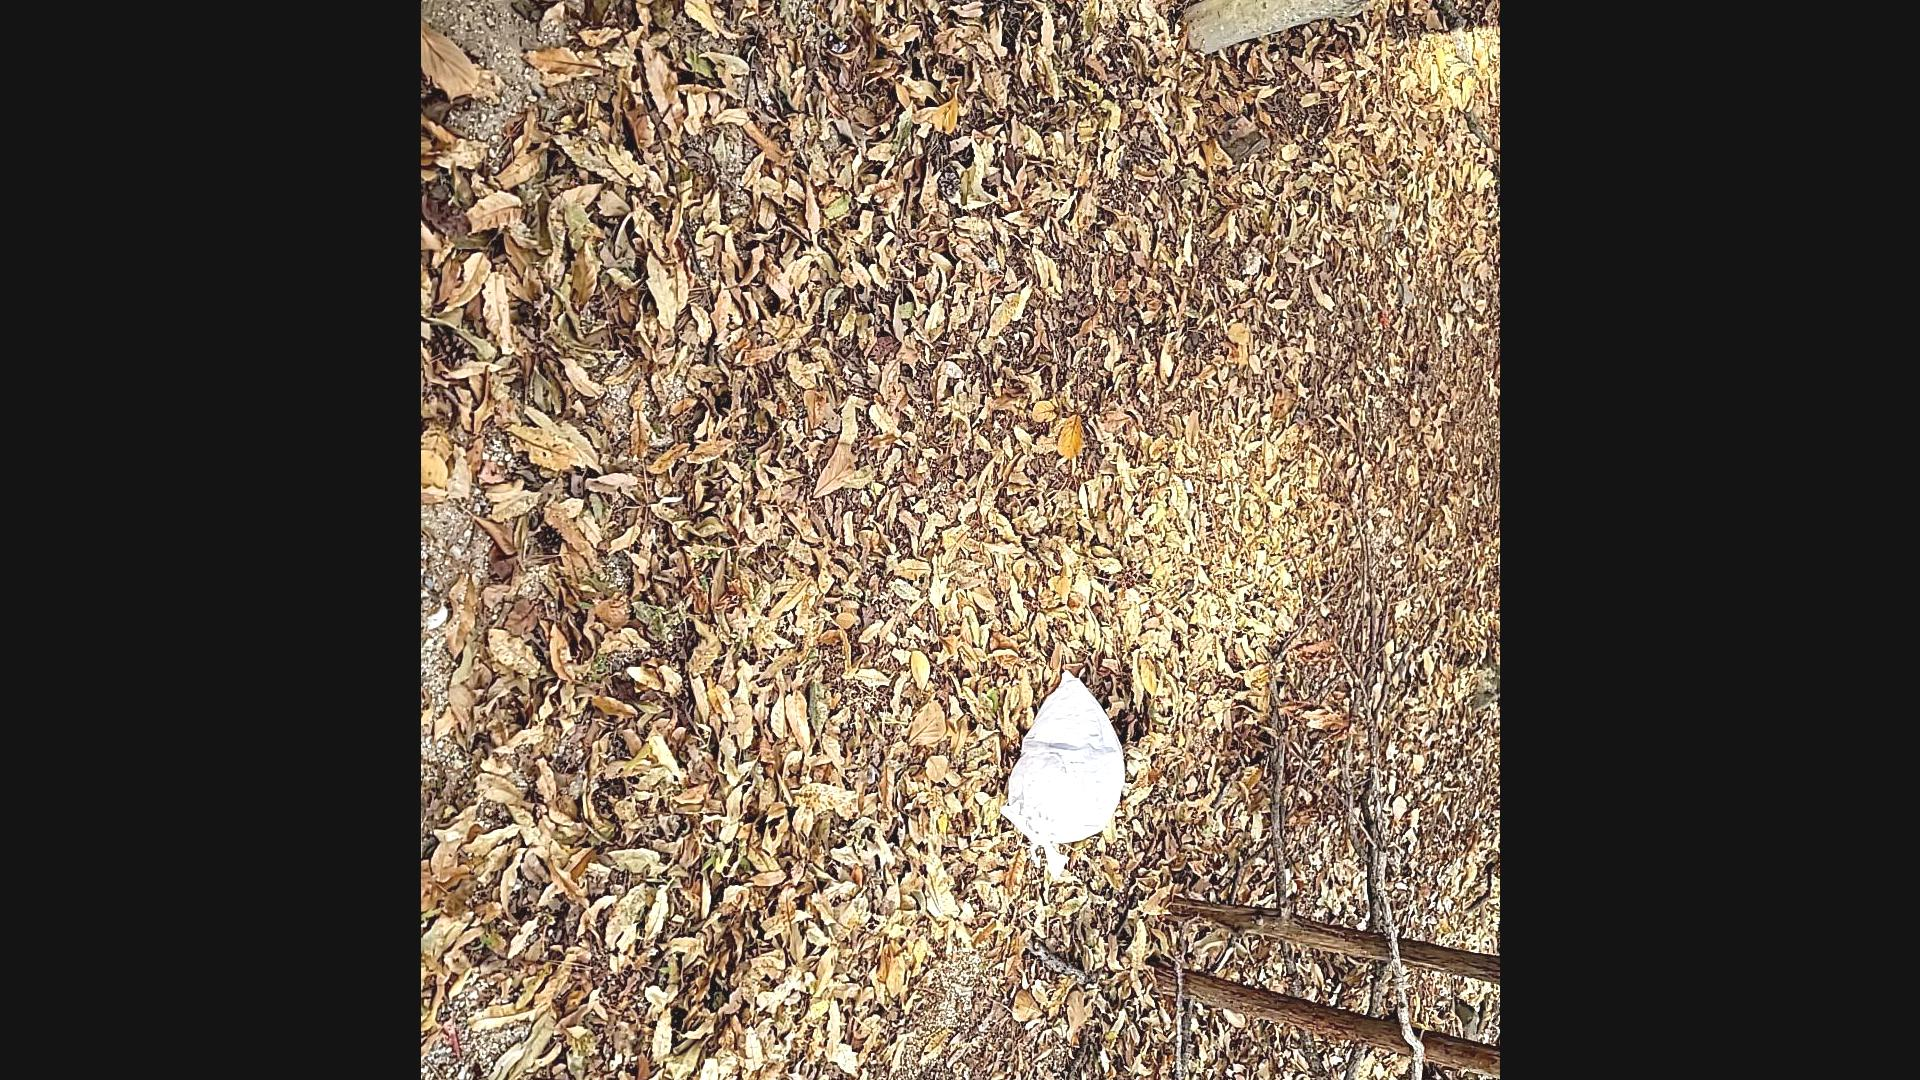white_bag: (989, 659, 1133, 880)
